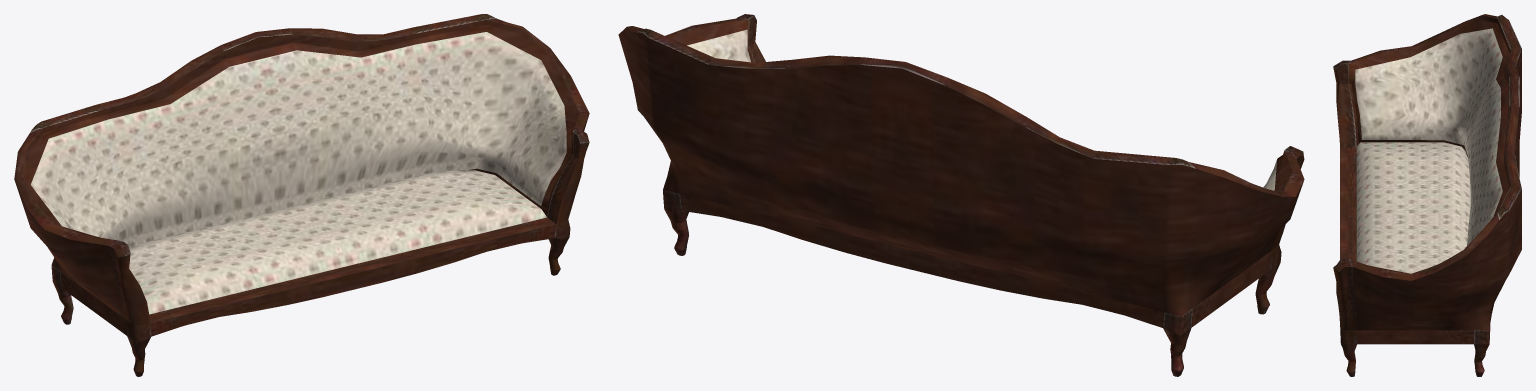
File: OBJ_Couch_02.fbx
The picture shows the model from 3 angles, left to right: view 1: azimuth 30°, elevation 25°; view 2: azimuth 150°, elevation 25°; view 3: azimuth 270°, elevation 25°; orthographic projection. The views are drawn at different scales.
Visible parts, largest first — view 1: couch; view 2: couch; view 3: couch.
Boxes of the visible parts, <box> form: couch: <box>14,14,589,376</box>; couch: <box>618,14,1304,376</box>; couch: <box>1333,14,1521,376</box>.
Size of the model in its own units: 6.73 by 2.68 by 2.27.
